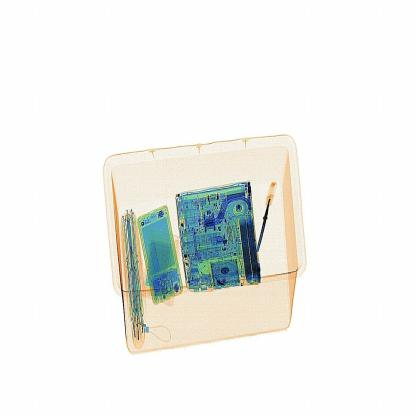gun: (251, 174, 288, 259)
